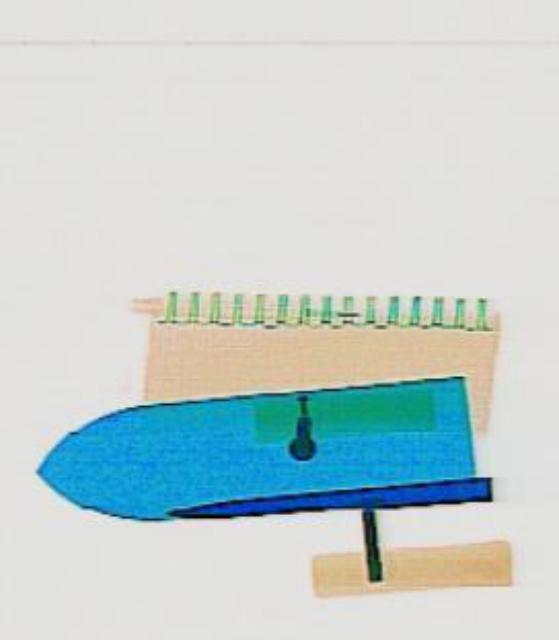Knife: (26, 367, 475, 529)
